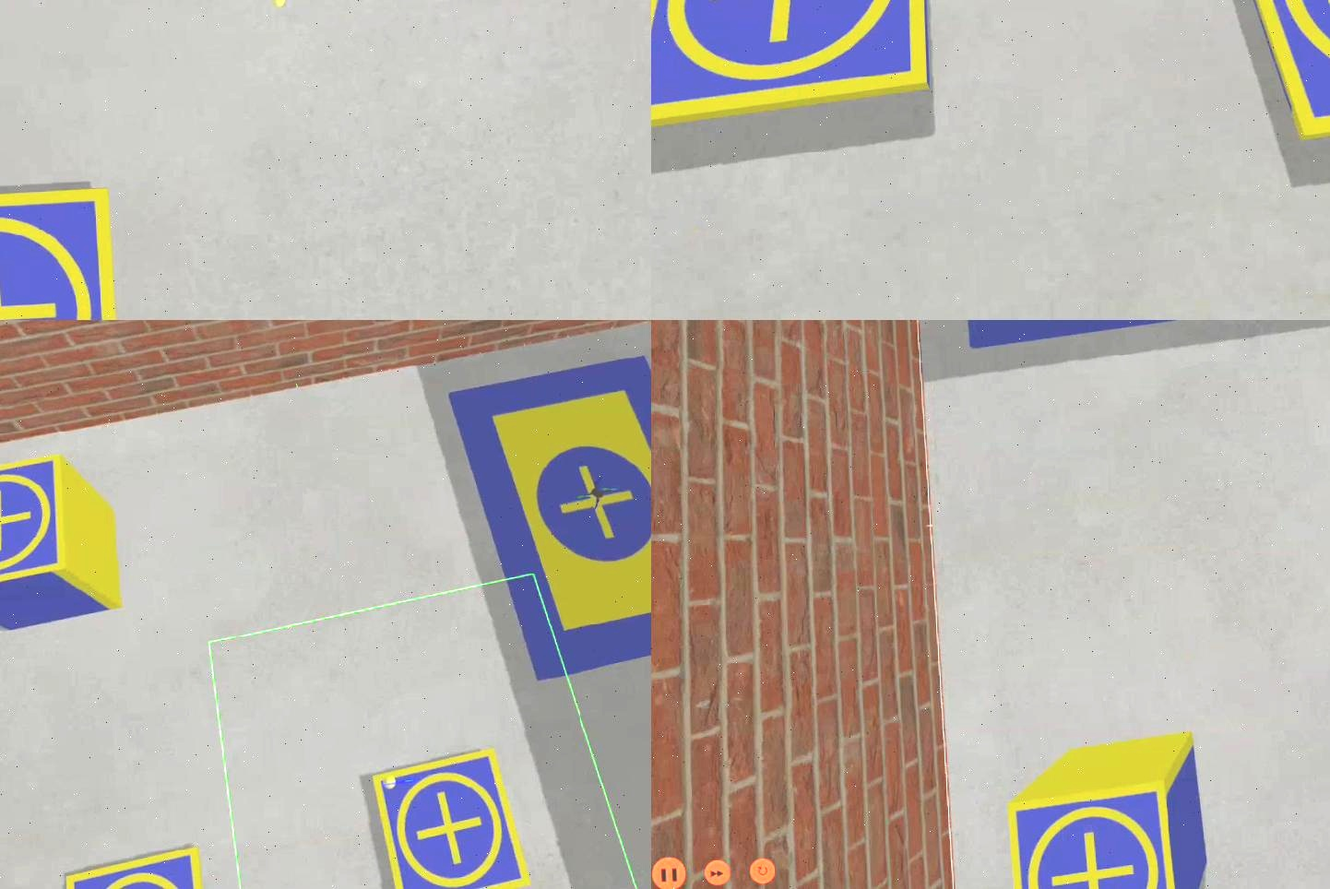large_base: (443, 352, 652, 680)
small_base: (652, 1, 938, 130), (371, 747, 532, 889), (1008, 776, 1182, 889), (1, 189, 122, 321), (1, 455, 72, 602), (65, 846, 208, 889)
